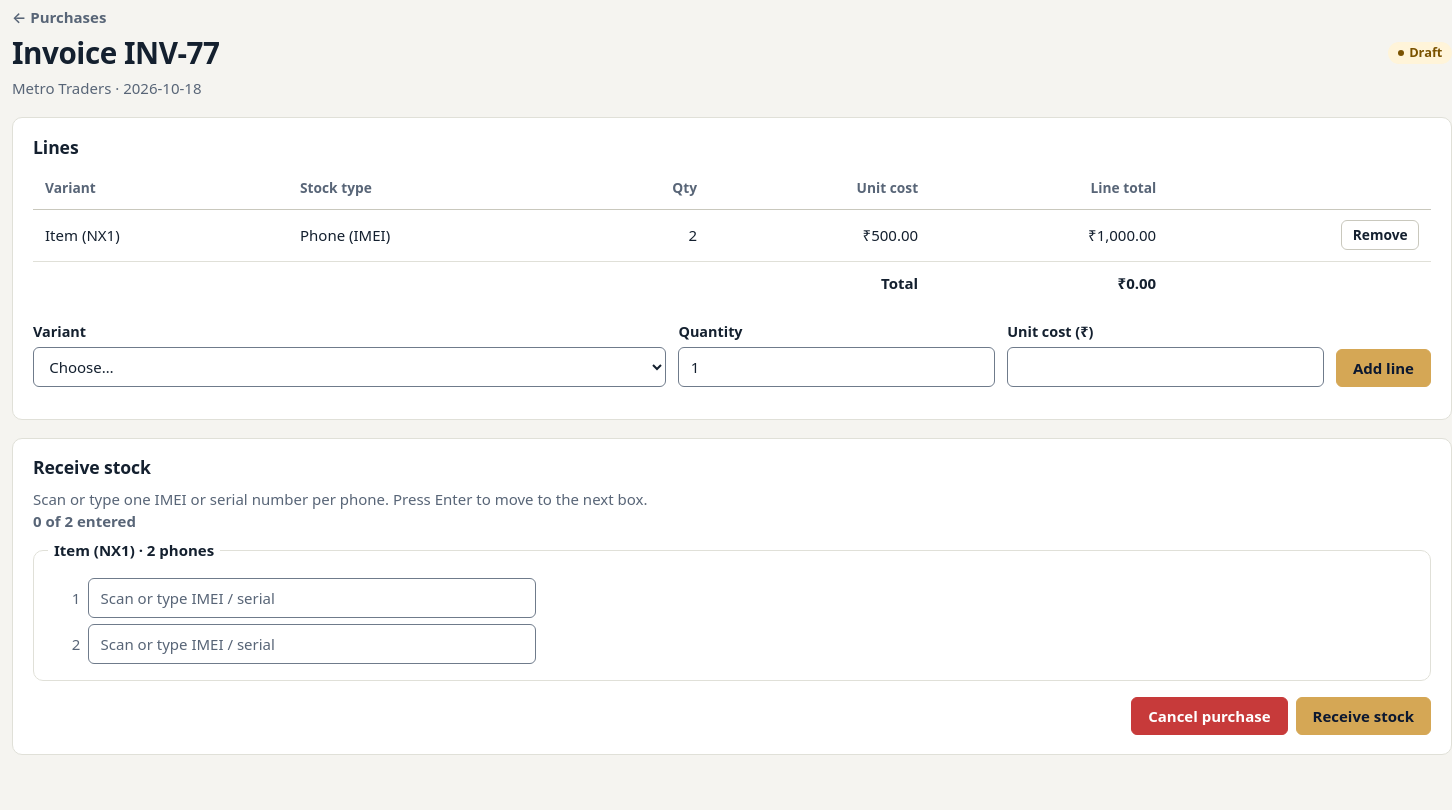
it: PurchaseDetailPage stale or finalised records › shows an error, not success, when cancelling changes no rows (someone else already received it)
Click the button "Cancel purchase" at (1209, 716), box [1131, 697, 1288, 735]
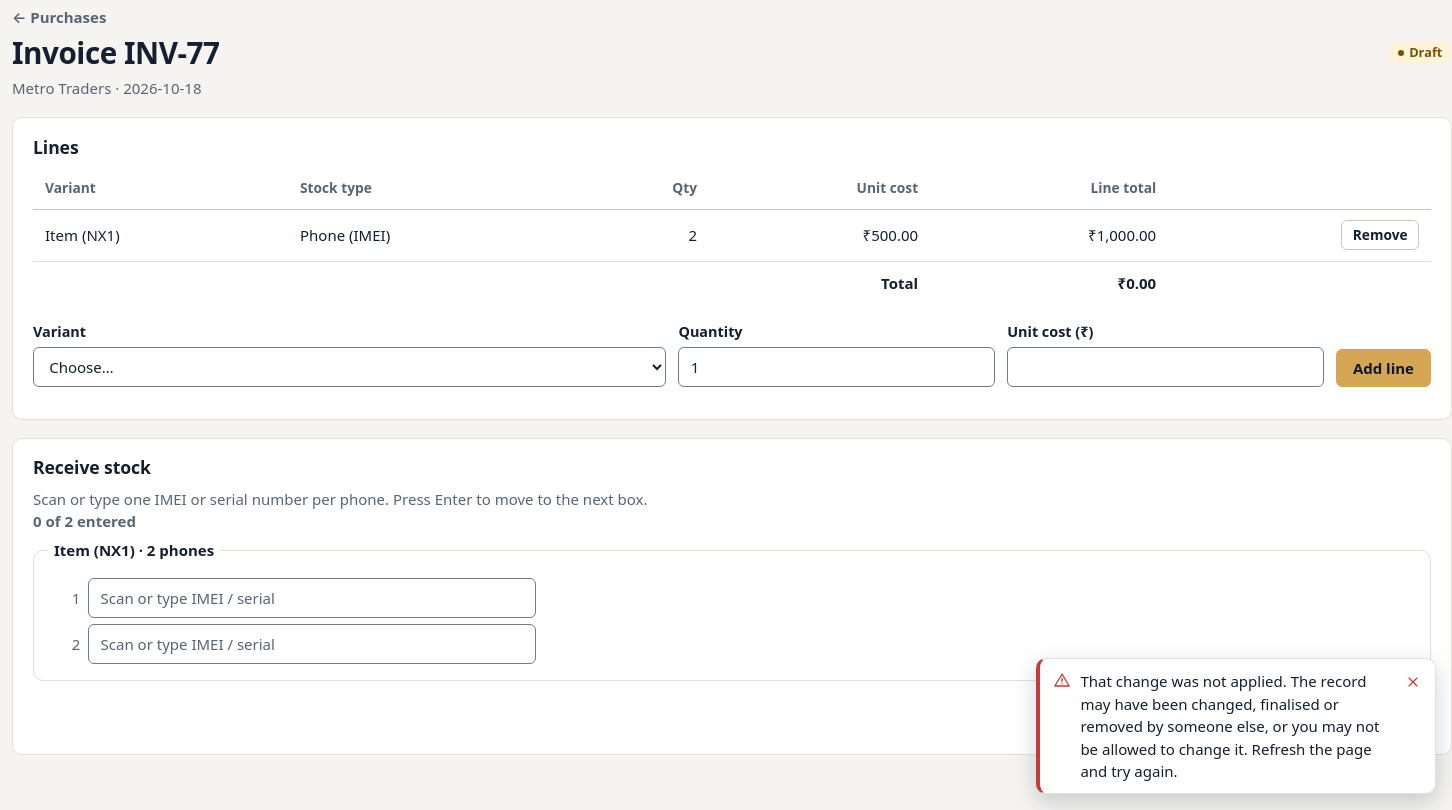
expect the text "That change was not applied. The record may have been changed, finalised or removed by someone else, or you may not be a" is shown: met, box [1080, 671, 1379, 781]
